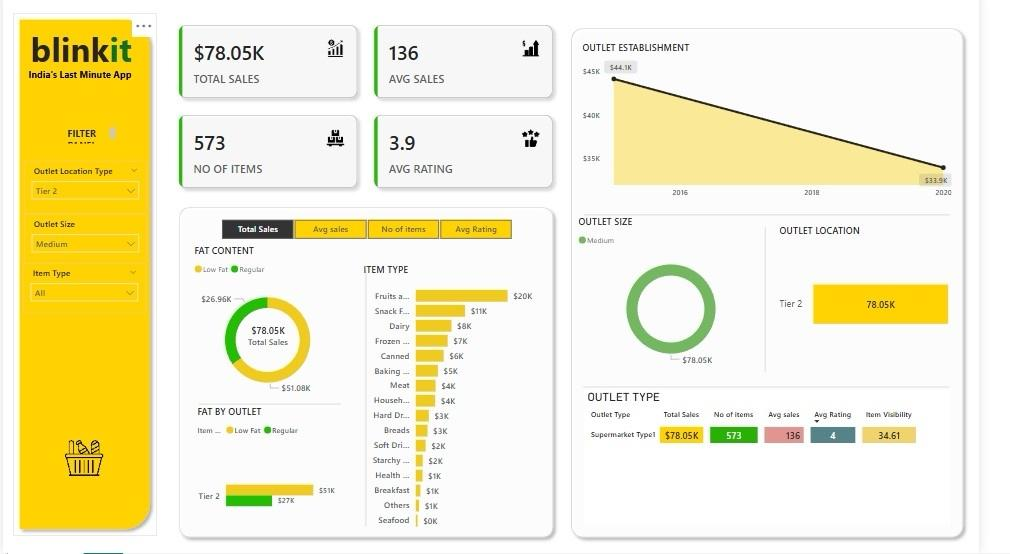

The dashboard page shown, as its layout file describes it:
{"tool":"powerbi","page":{"name":"Page 1","canvas":[1400,800],"ordinal":0},"visuals":[{"type":"shape","box":[14.7,25.7,205.8,749.6],"z":0},{"type":"textbox","box":[31.2,101,170.9,34.9],"z":1000},{"type":"textbox","box":[34.9,38.6,165.4,80.8],"z":2000},{"type":"cardVisual","fields":{"Data":["BlinkIT Grocery Data.Total Sales","BlinkIT Grocery Data.Avg sales","BlinkIT Grocery Data.No of items","BlinkIT Grocery Data.Avg Rating"]},"box":[234.6,25.9,570.7,269.7],"z":3000},{"type":"shape","box":[243.8,295.5,554.1,491.3],"z":4000},{"type":"slicer","fields":{"Values":["Metrics.Metrics"]},"box":[288.1,315.8,465.4,40.6],"z":5000},{"type":"donutChart","title":"FAT CONTENT","fields":{"Y":["BlinkIT Grocery Data.Total Sales"],"Category":["BlinkIT Grocery Data.Item Fat Content"]},"box":[269.7,356.5,219.8,230.9],"z":6000},{"type":"cardVisual","fields":{"Data":["BlinkIT Grocery Data.Total Sales"]},"box":[314,435.9,133,105.3],"z":7000},{"type":"clusteredBarChart","title":"FAT BY OUTLET","fields":{"Y":["BlinkIT Grocery Data.Total Sales"],"Series":["BlinkIT Grocery Data.Item Fat Content"],"Category":["BlinkIT Grocery Data.Outlet Location Type"]},"box":[273.4,587.3,216.1,208.7],"z":8000},{"type":"shape","box":[280.7,567,203.2,40.6],"z":9000},{"type":"shape","box":[419.3,395.3,203.2,365.7],"z":10000},{"type":"barChart","title":"ITEM TYPE","fields":{"Y":["BlinkIT Grocery Data.Total Sales"],"Category":["BlinkIT Grocery Data.Item Type"]},"box":[511.6,384.2,269.7,391.6],"z":11000},{"type":"shape","box":[805.3,38.8,579.9,748],"z":12000},{"type":"lineChart","title":"OUTLET ESTABLISHMENT","fields":{"Category":["BlinkIT Grocery Data.Outlet Establishment Year"],"Y":["BlinkIT Grocery Data.Total Sales"]},"box":[825.6,66.5,539.3,234.6],"z":13000},{"type":"shape","box":[833,280.7,524.5,68.3],"z":14000},{"type":"donutChart","title":"OUTLET SIZE","fields":{"Y":["BlinkIT Grocery Data.Total Sales"],"Category":["BlinkIT Grocery Data.Outlet Size"]},"box":[820.1,315.8,275.2,225.3],"z":15000},{"type":"shape","box":[1078.6,332.5,29.6,208.7],"z":16000},{"type":"funnel","title":"OUTLET LOCATION","fields":{"Category":["BlinkIT Grocery Data.Outlet Location Type"],"Y":["Sum(BlinkIT Grocery Data.Sales)"]},"box":[1108.2,328.8,256.7,212.4],"z":17000},{"type":"shape","box":[831.1,546.7,524.5,31.4],"z":18000},{"type":"pivotTable","title":"OUTLET TYPE","fields":{"Rows":["BlinkIT Grocery Data.Outlet Type"],"Values":["BlinkIT Grocery Data.Total Sales","BlinkIT Grocery Data.No of items","BlinkIT Grocery Data.Avg sales","BlinkIT Grocery Data.Avg Rating","Sum(BlinkIT Grocery Data.Item Visibility)"]},"box":[833,567,524.5,193.9],"z":19000},{"type":"slicer","fields":{"Values":["BlinkIT Grocery Data.Outlet Size"]},"box":[29.9,313.4,176.4,70.9],"z":20000},{"type":"slicer","fields":{"Values":["BlinkIT Grocery Data.Item Type"]},"box":[28.3,384.3,176.4,72.4],"z":21000},{"type":"slicer","fields":{"Values":["BlinkIT Grocery Data.Outlet Location Type"]},"box":[29.9,237.8,176.4,75.6],"z":22000},{"type":"textbox","box":[60.2,183.5,113.3,34.4],"z":23000},{"type":"image","box":[70.9,623.6,92.9,80.3],"z":24000}]}

Visuals, with their boxes on the page's 1400x800 design canvas (x1, y1, x2, y2). These are canvas units, not pixel positions in the 1010x554 screenshot, which may show the page scaled, cropped or inside an application window:
shape: bbox=[15, 26, 220, 775]
textbox: bbox=[31, 101, 202, 136]
textbox: bbox=[35, 39, 200, 119]
cardVisual - BlinkIT Grocery Data.Total Sales x BlinkIT Grocery Data.Avg sales: bbox=[235, 26, 805, 296]
shape: bbox=[244, 296, 798, 787]
slicer - Metrics.Metrics: bbox=[288, 316, 754, 356]
"FAT CONTENT" donutChart: bbox=[270, 356, 490, 587]
cardVisual - BlinkIT Grocery Data.Total Sales: bbox=[314, 436, 447, 541]
"FAT BY OUTLET" clusteredBarChart: bbox=[273, 587, 490, 796]
shape: bbox=[281, 567, 484, 608]
shape: bbox=[419, 395, 622, 761]
"ITEM TYPE" barChart: bbox=[512, 384, 781, 776]
shape: bbox=[805, 39, 1385, 787]
"OUTLET ESTABLISHMENT" lineChart: bbox=[826, 66, 1365, 301]
shape: bbox=[833, 281, 1358, 349]
"OUTLET SIZE" donutChart: bbox=[820, 316, 1095, 541]
shape: bbox=[1079, 332, 1108, 541]
"OUTLET LOCATION" funnel: bbox=[1108, 329, 1365, 541]
shape: bbox=[831, 547, 1356, 578]
"OUTLET TYPE" pivotTable: bbox=[833, 567, 1358, 761]
slicer - BlinkIT Grocery Data.Outlet Size: bbox=[30, 313, 206, 384]
slicer - BlinkIT Grocery Data.Item Type: bbox=[28, 384, 205, 457]
slicer - BlinkIT Grocery Data.Outlet Location Type: bbox=[30, 238, 206, 313]
textbox: bbox=[60, 184, 174, 218]
image: bbox=[71, 624, 164, 704]
